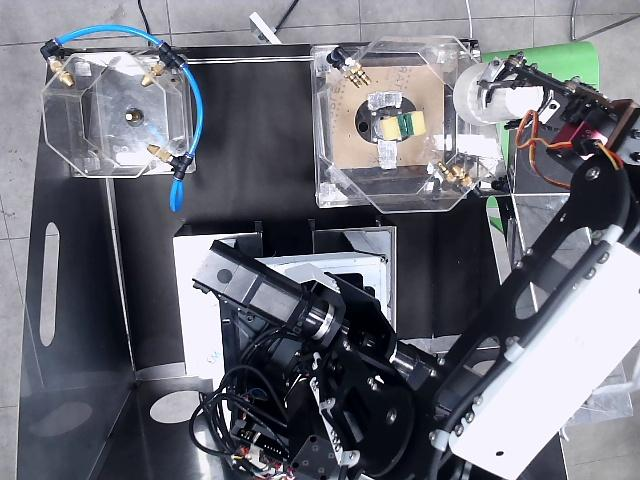cup: (454, 57, 544, 125)
